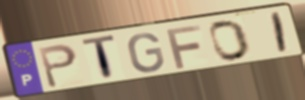F: (164, 23, 204, 70)
G: (126, 32, 167, 74)
I: (270, 10, 289, 56)
O: (208, 18, 253, 63)
P: (36, 42, 80, 90)
T: (80, 33, 118, 83)
